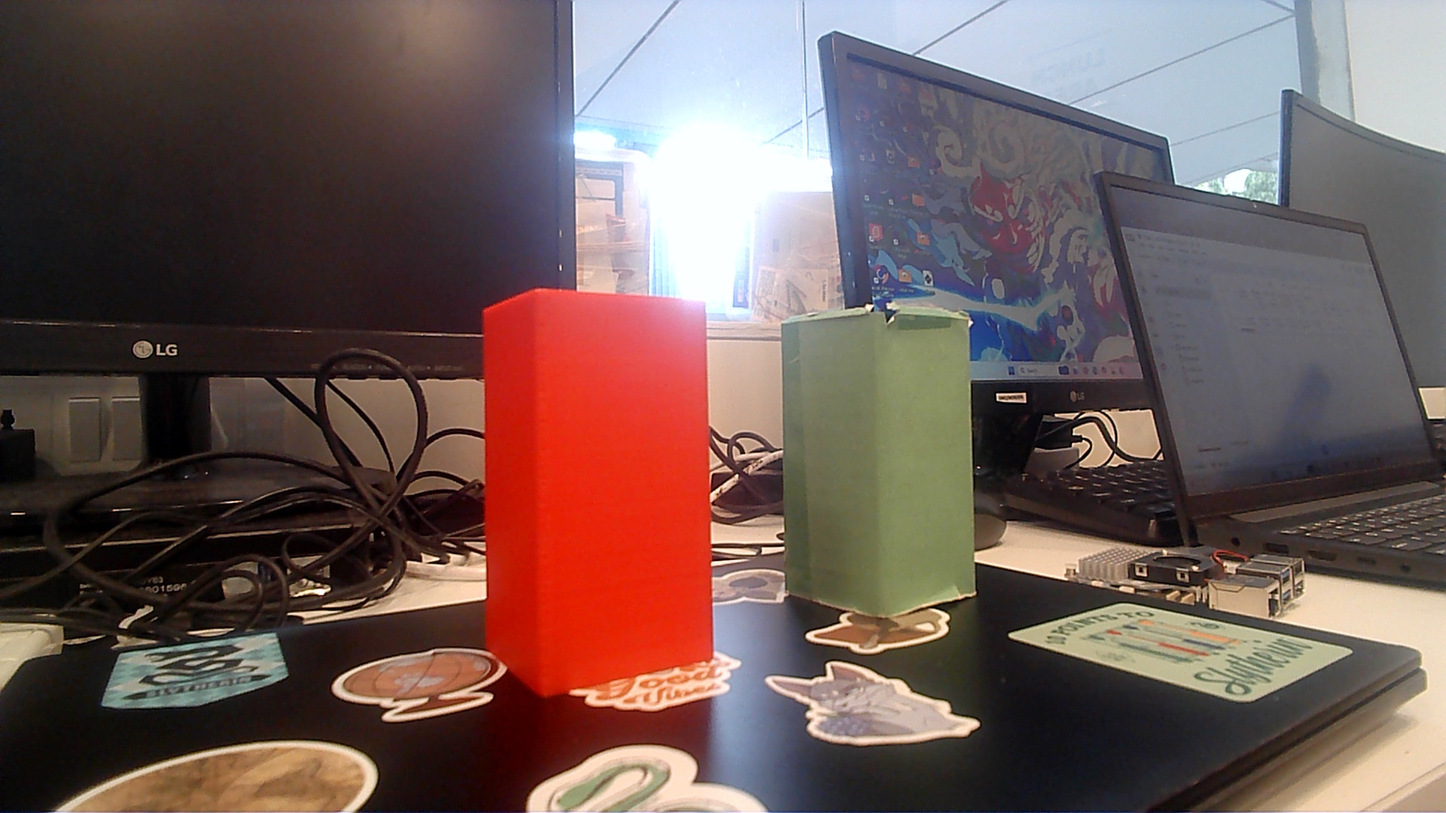green: (783, 307, 967, 617)
